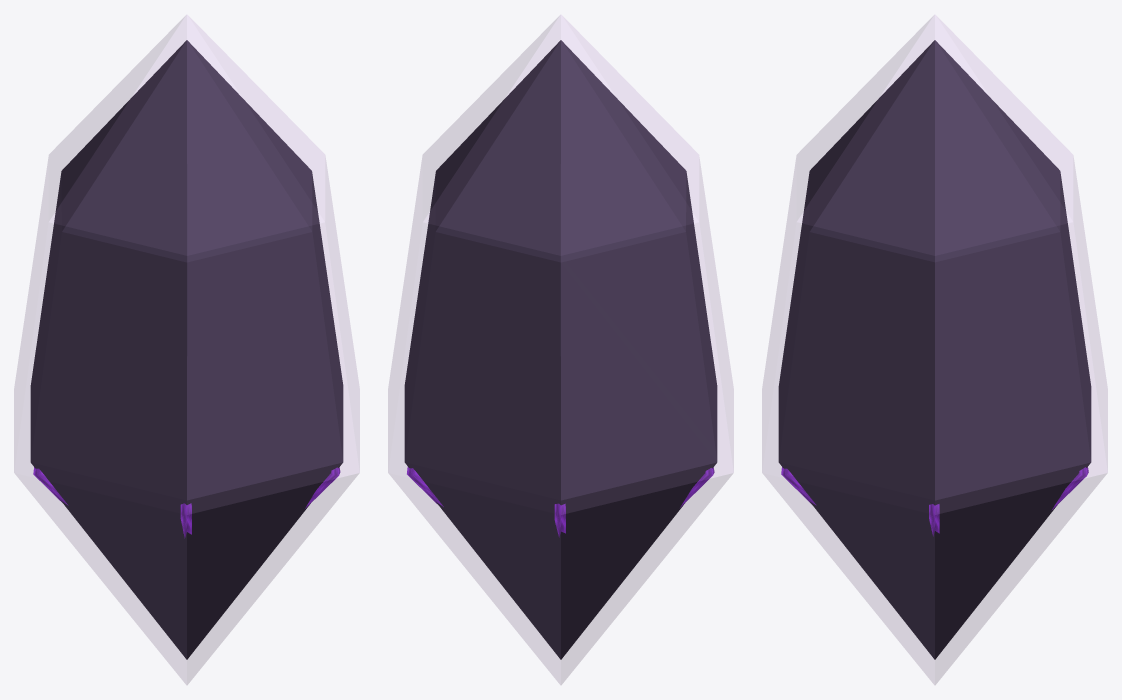
Rendered from shadow_crystal.glb.
3 renders of one model, left to right at view 1: azimuth 30°, elevation 25°; view 2: azimuth 150°, elevation 25°; view 3: azimuth 270°, elevation 25°, orthographic.
Parts seen in each view (by area): view 1: Violet translucent facets, Black shadow core; view 2: Violet translucent facets, Black shadow core; view 3: Violet translucent facets, Black shadow core.
Boxes of the visible parts, x1,y1,x2,y2 form: Violet translucent facets: (14,15,359,684); Black shadow core: (30,40,343,659); Violet translucent facets: (388,15,733,684); Black shadow core: (404,40,717,659); Violet translucent facets: (762,15,1107,684); Black shadow core: (778,40,1091,659).
Size of the model in its own units: 27.3 by 50.69 by 23.64.
Materials: 3 (1 with a texture image).
